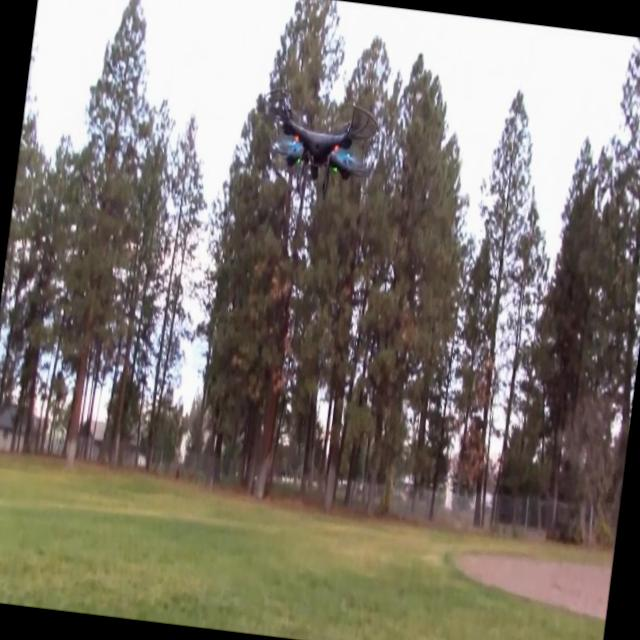drone: (252, 84, 386, 205)
